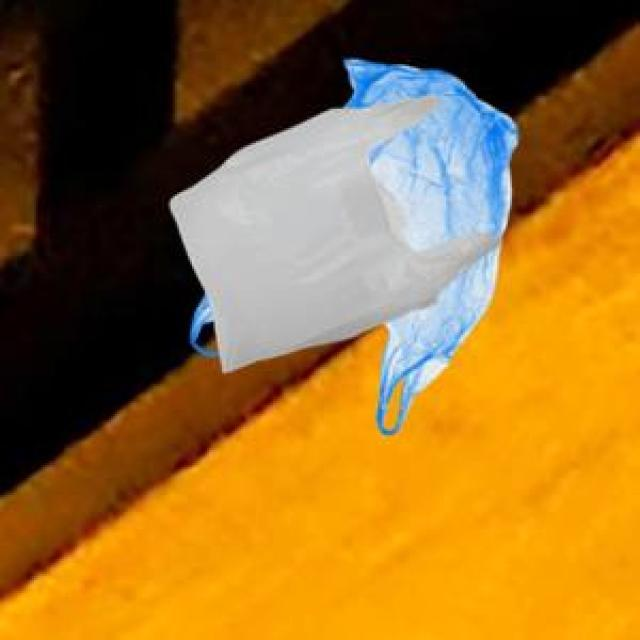Plastic_Bag: (188, 57, 514, 432), (168, 93, 498, 368)
